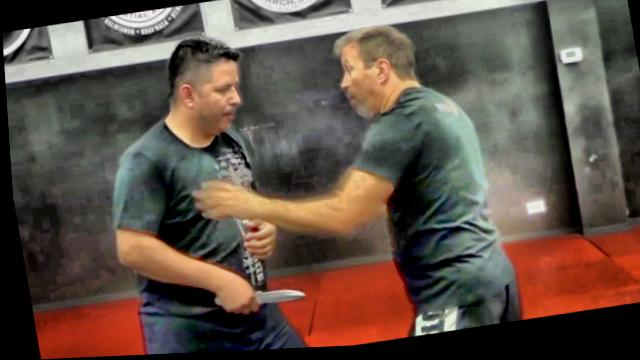knife: (202, 273, 311, 320)
